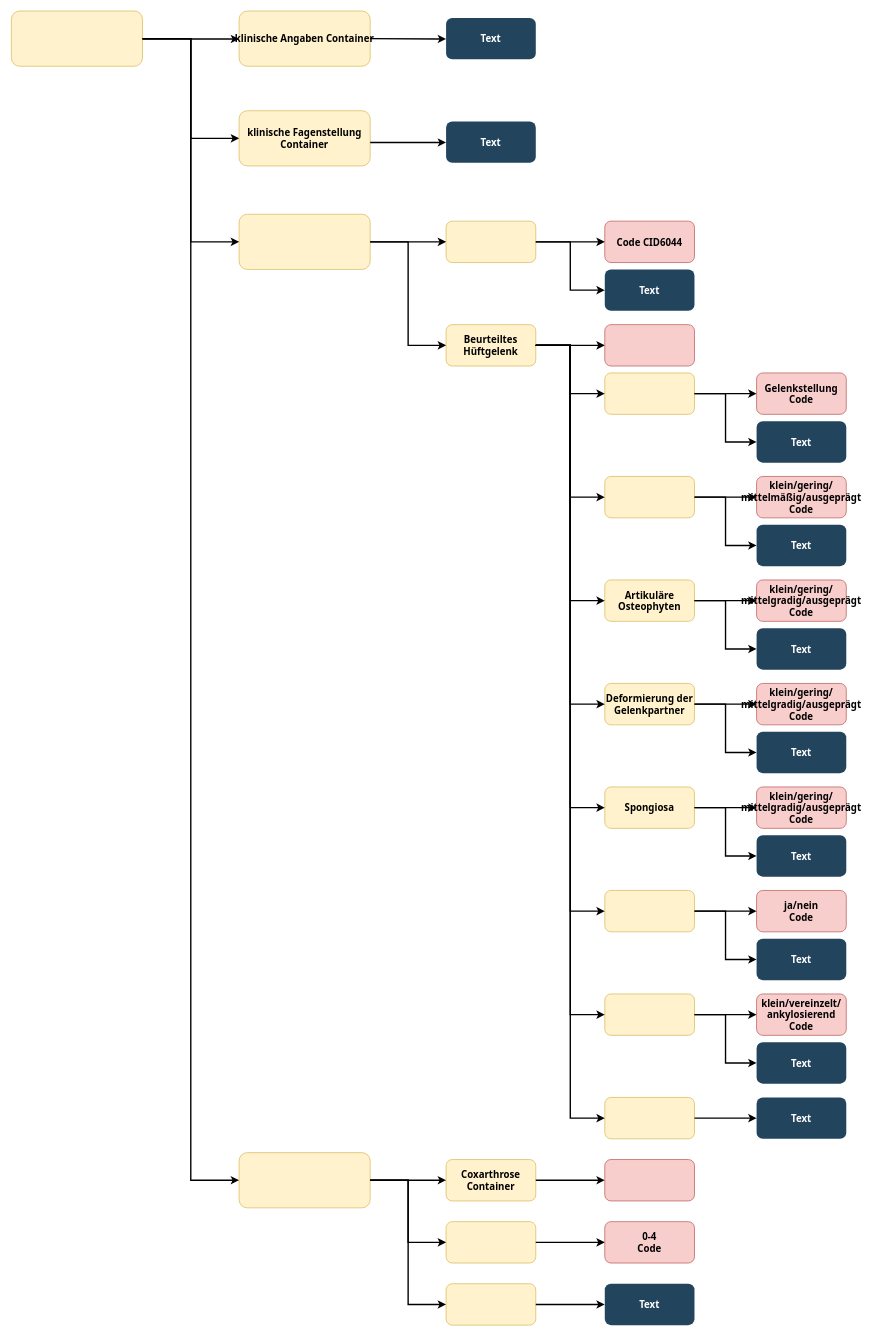
Some shapes in this 872 by 1337 pixel diagram are drawn without their labels. The shapes that lost their labels are listed below. From the top down, each one's centre as x and y in pixels, then its label:
At pixel 76 38: "Container (Root)".
At pixel 304 241: "Befund".
At pixel 490 241: "Bildqualität Container".
At pixel 649 345: "Code CID247".
At pixel 649 393: "Gelenkstellung".
At pixel 649 497: "Subchondrale Sklerosierung".
At pixel 649 911: "Beckenarchitektur".
At pixel 649 1014: "Paraarikuläre Weichteile".
At pixel 649 1118: "Sonstiges".
At pixel 304 1180: "Beurteilung".
At pixel 649 1180: "klein/dysplastisch/ degenerativ/ posttraumatisch Code".
At pixel 490 1242: "Kellgren-Score Container".
At pixel 490 1304: "Sonstiges Container".
